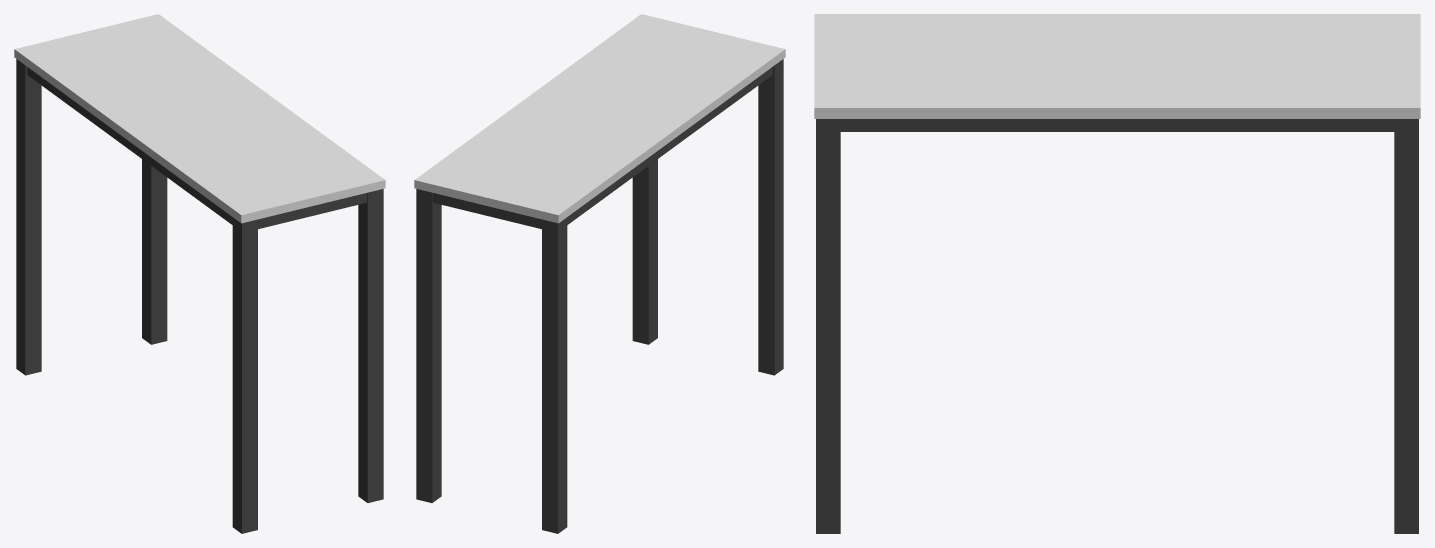
The model's file is Table_06_C2.fbx.
3 renders of one model, left to right at view 1: azimuth 30°, elevation 25°; view 2: azimuth 150°, elevation 25°; view 3: azimuth 270°, elevation 25°, orthographic. The views are drawn at different scales.
Parts seen in each view (by area): view 1: Table_06_C2; view 2: Table_06_C2; view 3: Table_06_C2.
Boxes of the visible parts, bbox=[...] form: Table_06_C2: bbox=[14, 14, 385, 533]; Table_06_C2: bbox=[414, 14, 785, 533]; Table_06_C2: bbox=[814, 14, 1420, 533].
Size of the model in its own units: 55 by 117 by 150.
